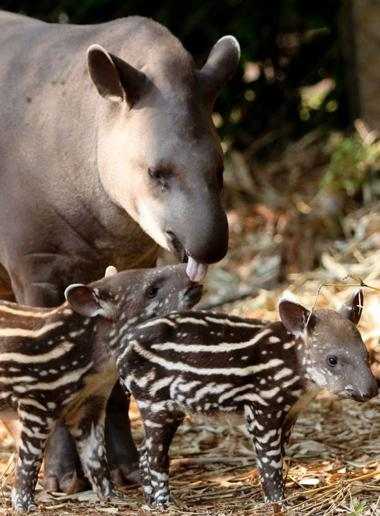Anta: (5, 5, 266, 275), (115, 288, 378, 509), (5, 264, 212, 500)
